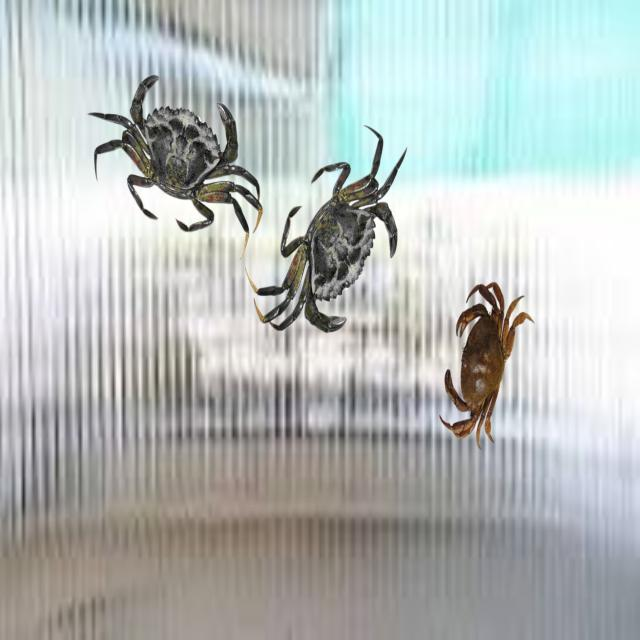European_Green_Crab: (236, 94, 439, 386), (73, 45, 280, 267)
